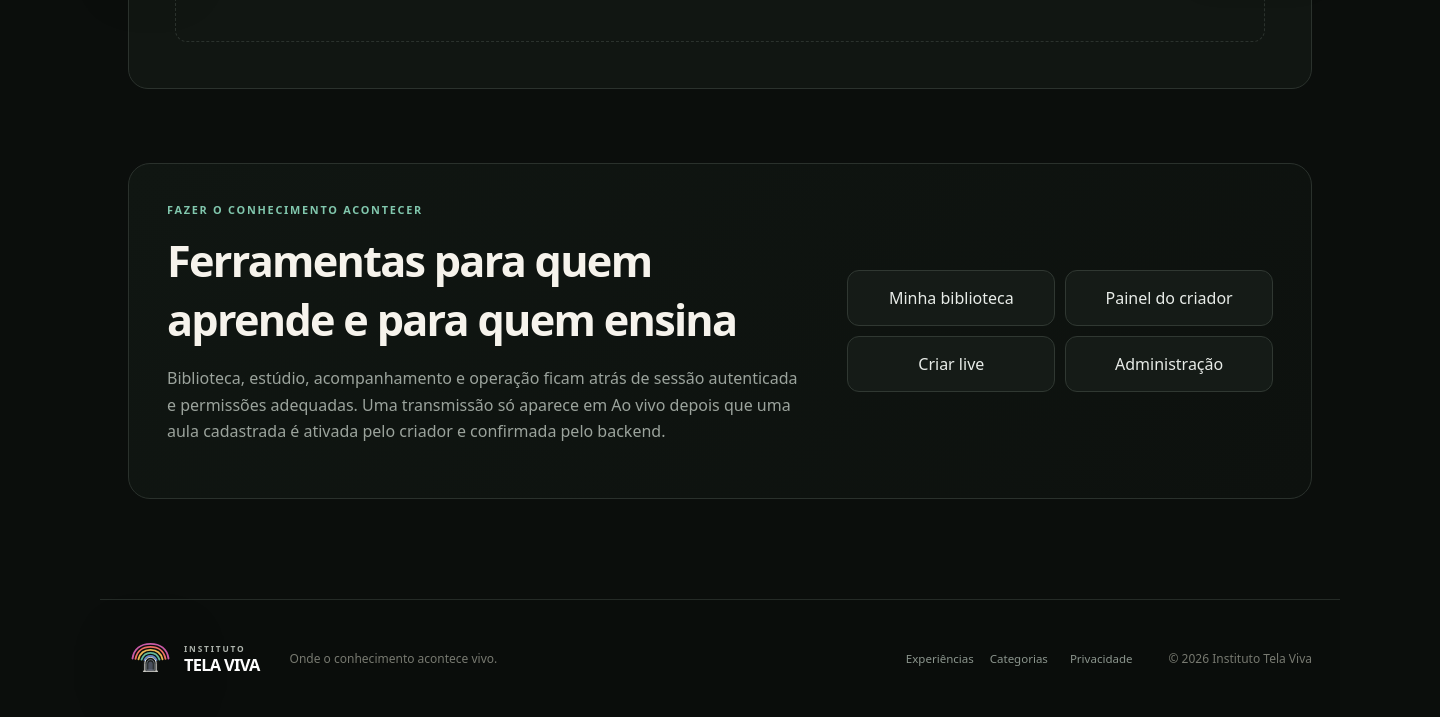
Áreas operacionais sem dados fictícios › abre a administração sem métricas, usuários ou moderação inventados
This screenshot has width=1440, height=717.
(page scrolled)
Click the button "Administração" at (1169, 364), box [1065, 336, 1273, 392]
(page scrolled)
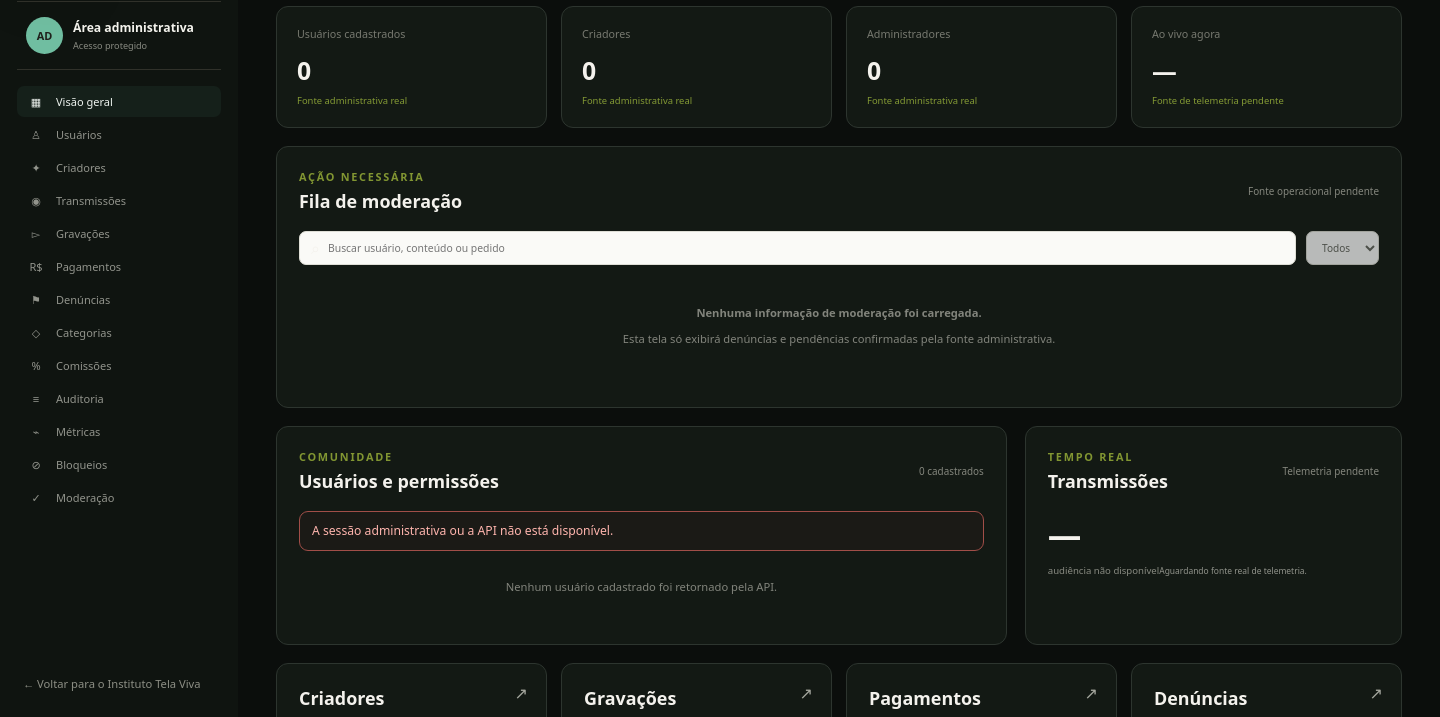
Expected: the heading "Fila de moderação" is shown, [299, 189, 462, 213]
Expected: the element named "Métricas da plataforma" is shown, [276, 6, 1402, 128]
Expected: the text "Nenhuma informação de moderação foi carregada." is shown, [696, 305, 982, 320]
